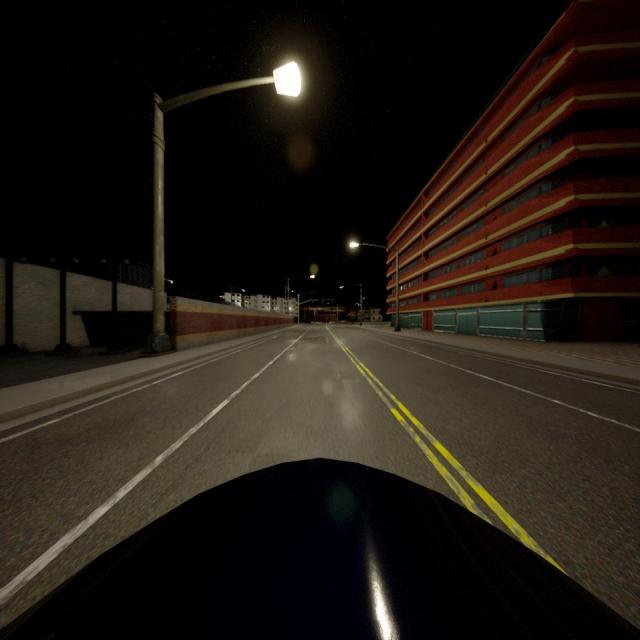Vehicle: (1, 461, 640, 640), (320, 315, 330, 323)
